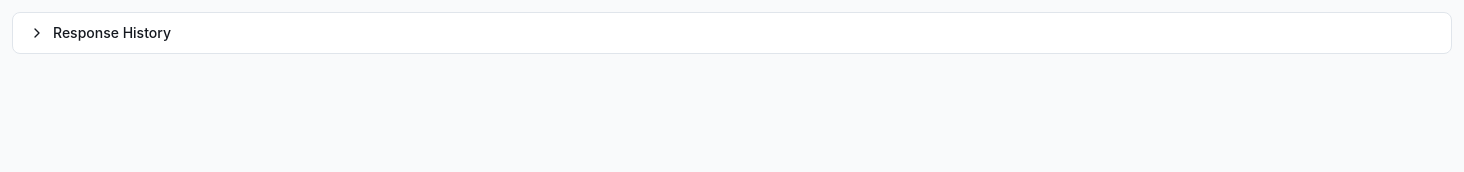
Test: ResponseHistoryPanel — empty state › says so rather than showing an empty table
Click the button "Response History": [112, 32] box [13, 13, 1451, 53]
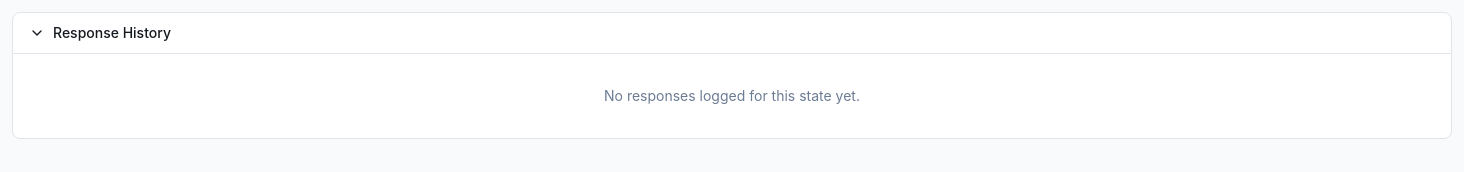
Expected: the text "No responses logged for this state yet." is shown, [604, 87, 860, 104]
